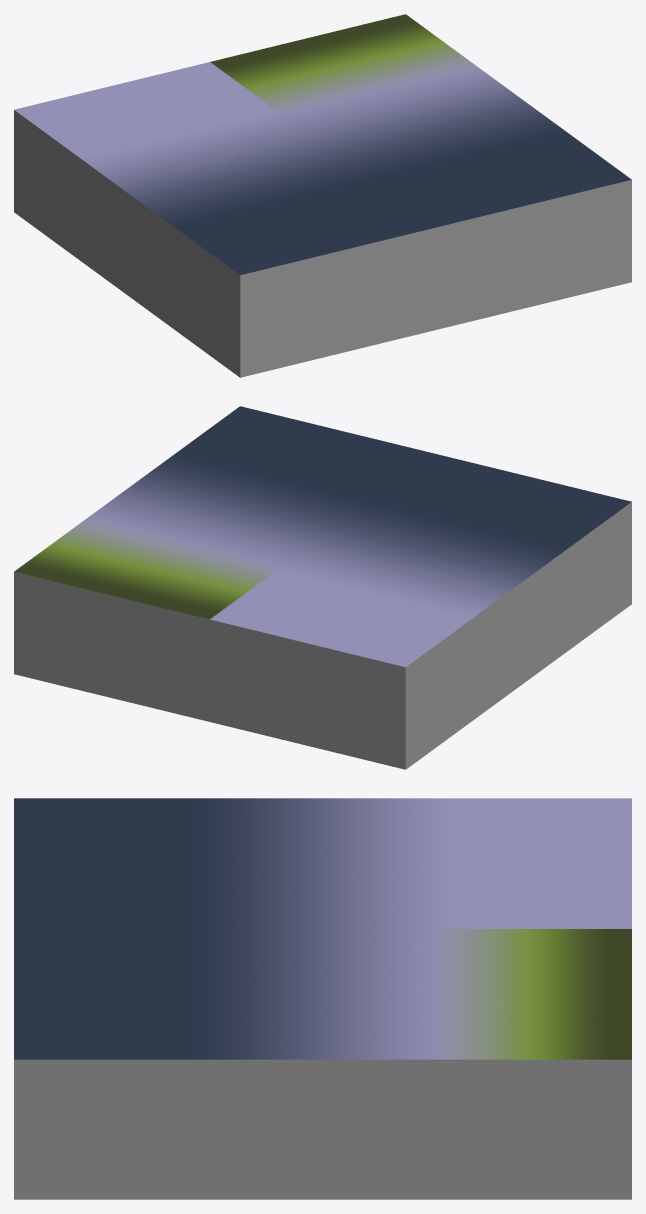
File: PathFlatNon.fbx
The picture shows the model from 3 angles, top to bottom: view 1: azimuth 30°, elevation 25°; view 2: azimuth 150°, elevation 25°; view 3: azimuth 270°, elevation 25°; orthographic projection. The views are drawn at different scales.
Parts seen in each view (by area): view 1: PathFlatNon; view 2: PathFlatNon; view 3: PathFlatNon.
Boxes of the visible parts, x1,y1,x2,y2 form: PathFlatNon: [14, 14, 631, 377]; PathFlatNon: [14, 406, 631, 769]; PathFlatNon: [14, 798, 631, 1199].
Size of the model in its own units: 1200 by 300 by 1200.
